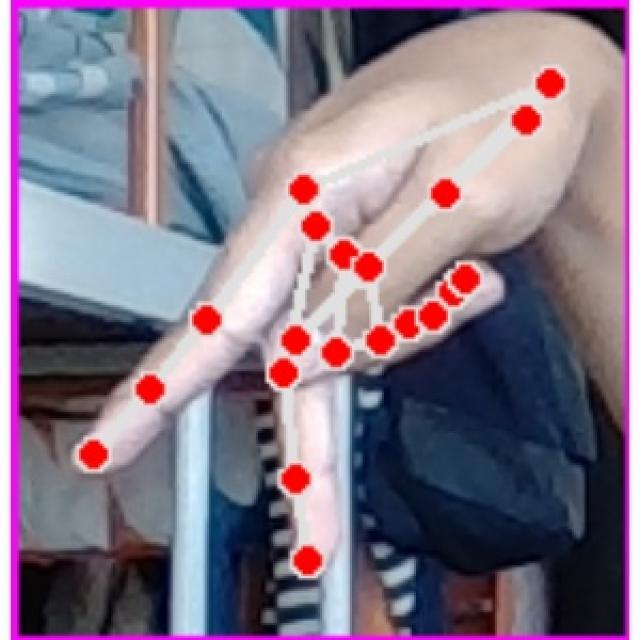P: (59, 15, 612, 590)
